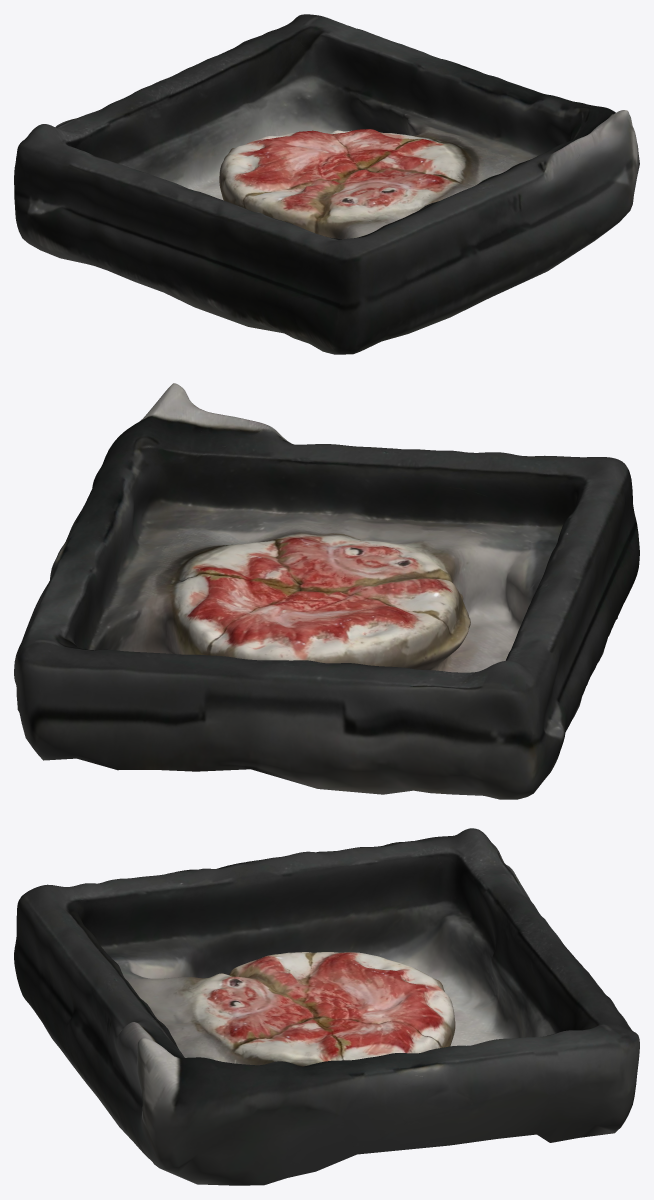
3 renders of one model, top to bottom at view 1: azimuth 30°, elevation 25°; view 2: azimuth 150°, elevation 25°; view 3: azimuth 270°, elevation 25°, orthographic. The views are drawn at different scales.
Bounding box in the file's own units: 0.7395 × 0.2152 × 0.7446.
1 material, 1 textured.
